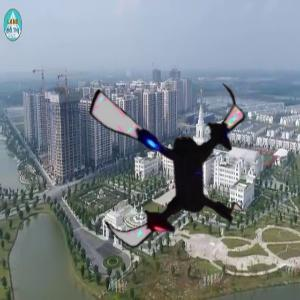drone: (69, 63, 267, 261)
